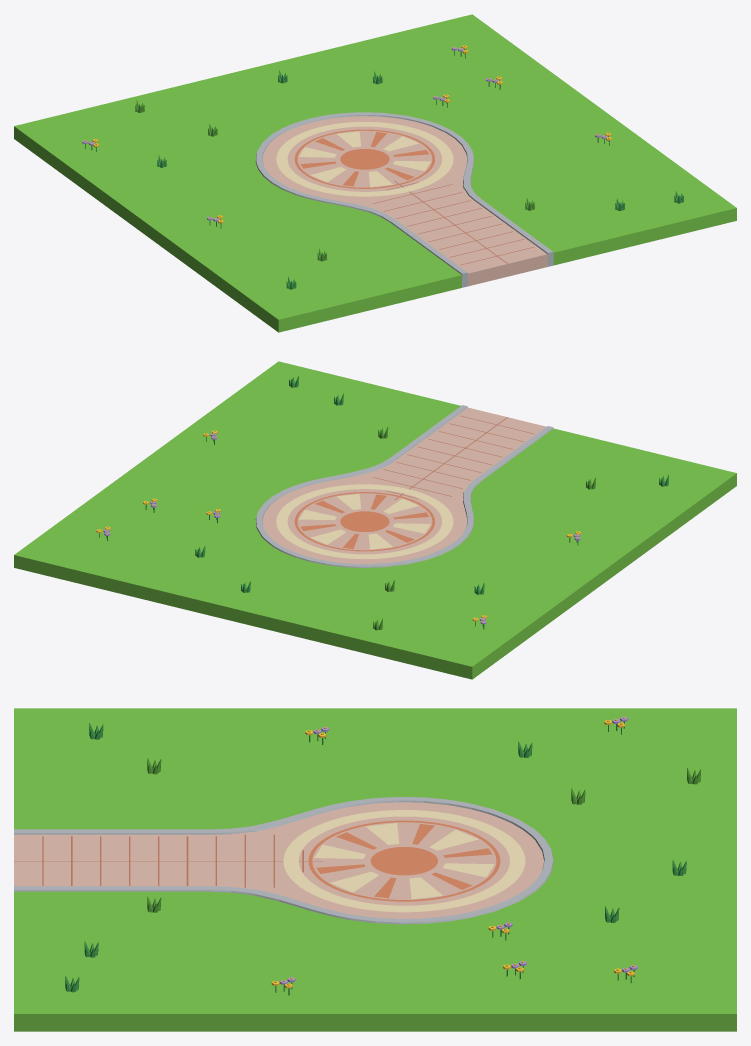
The model's file is caminho_parque_fim.glb.
3 views of the same model, one above another, from view 1: azimuth 30°, elevation 25°; view 2: azimuth 150°, elevation 25°; view 3: azimuth 270°, elevation 25° (orthographic). The views are drawn at different scales.
Visible parts, largest first — view 1: caminho_parque_fim; view 2: caminho_parque_fim; view 3: caminho_parque_fim.
Part boxes in pixels (<box>): caminho_parque_fim: <box>14,14,736,332</box>; caminho_parque_fim: <box>14,361,736,679</box>; caminho_parque_fim: <box>14,708,736,1031</box>.
Size of the model in its own units: 15 by 0.6825 by 15.
Materials: 1 (1 with a texture image).
